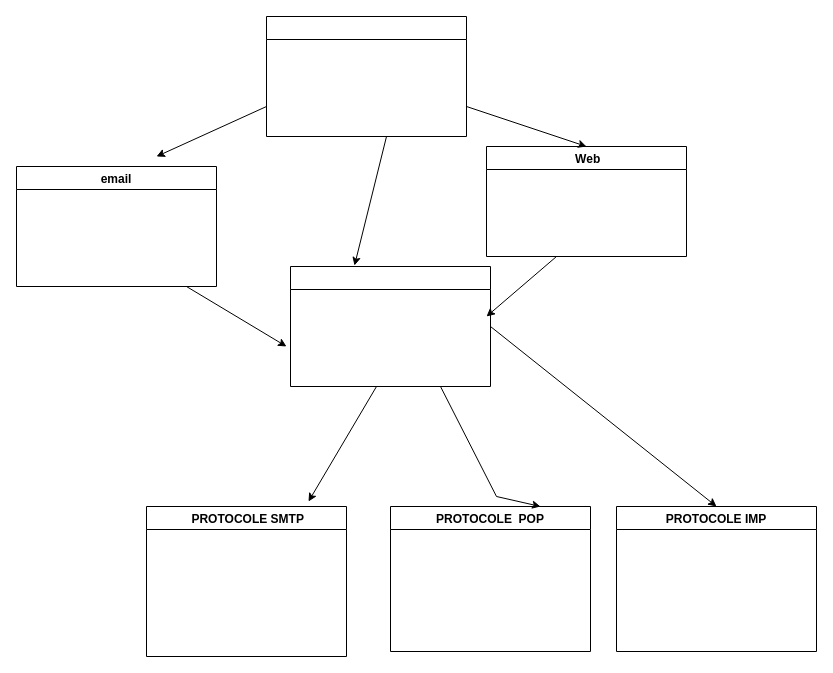
The diagram is 833 pixels wide and 673 high, and some of its shapes have lost their labels. Each missing label, with the centre of its shape:
"INTERNET" goes at (x=366, y=76).
"protocole" goes at (x=390, y=326).
